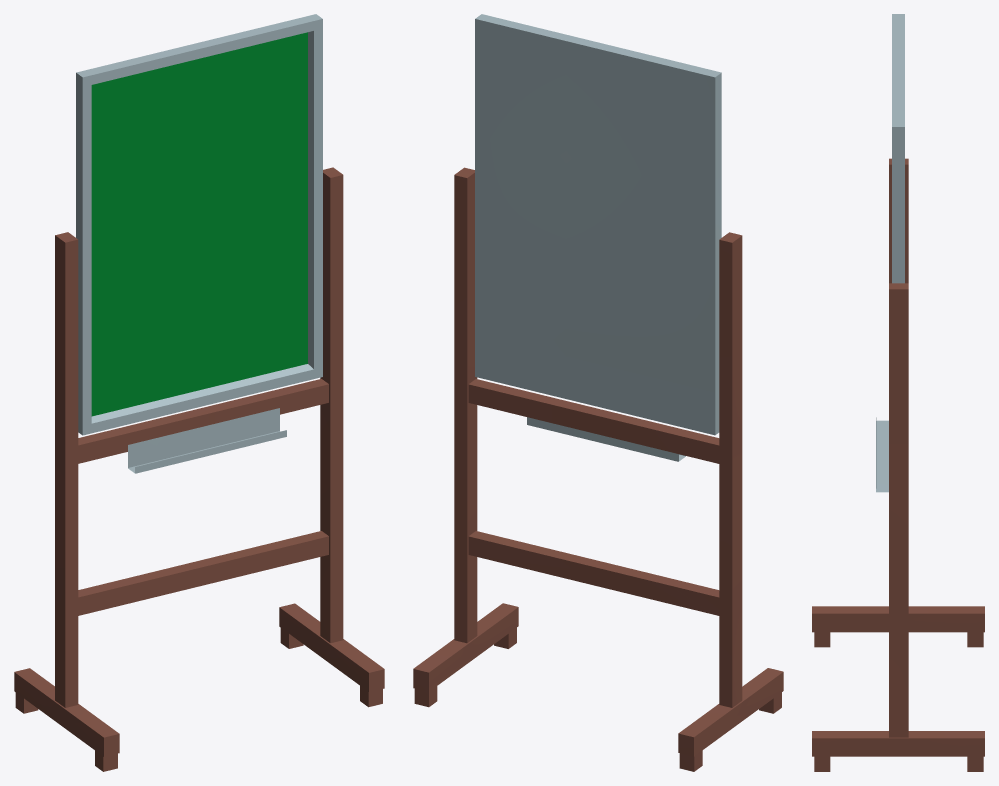
File: toy_002.glb
3 renders of one model, left to right at view 1: azimuth 30°, elevation 25°; view 2: azimuth 150°, elevation 25°; view 3: azimuth 270°, elevation 25°, orthographic. The views are drawn at different scales.
Visible parts, largest first — view 1: toy_002; view 2: toy_002; view 3: toy_002.
Part boxes in pixels (x1,y1,x2,y2): toy_002: (14,14,384,771); toy_002: (413,14,783,771); toy_002: (812,14,984,771).
Bounding box in the file's own units: 0.8008 × 1.8 × 0.4433.
Materials: 1 (1 with a texture image).
